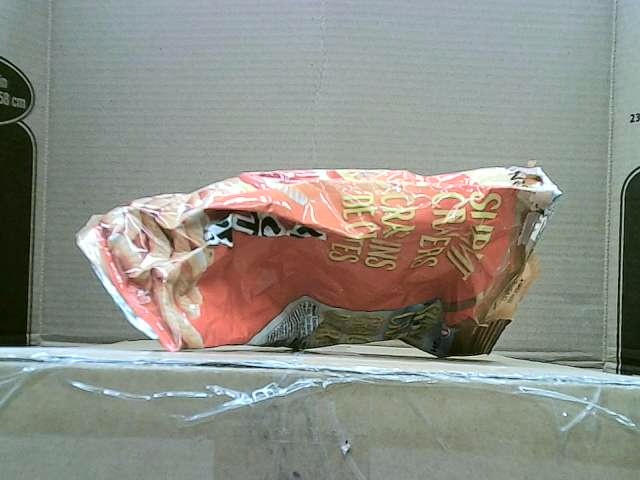Chips: (74, 165, 564, 358)
